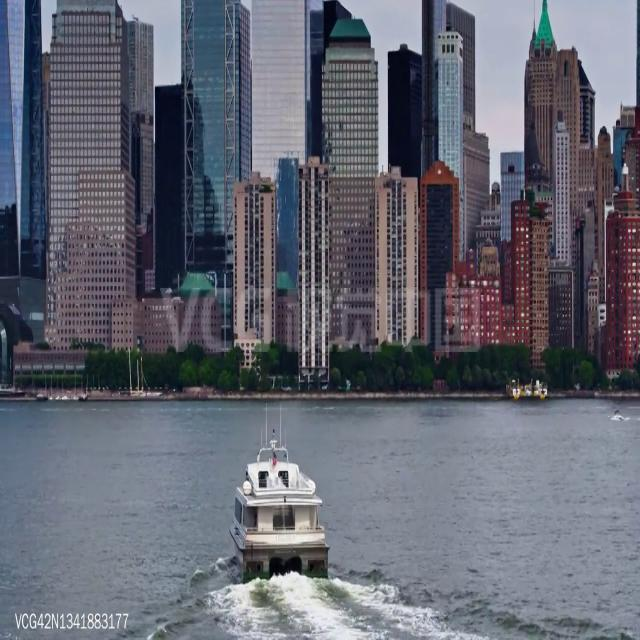houseboat: (229, 435, 329, 581), (608, 408, 628, 425)
